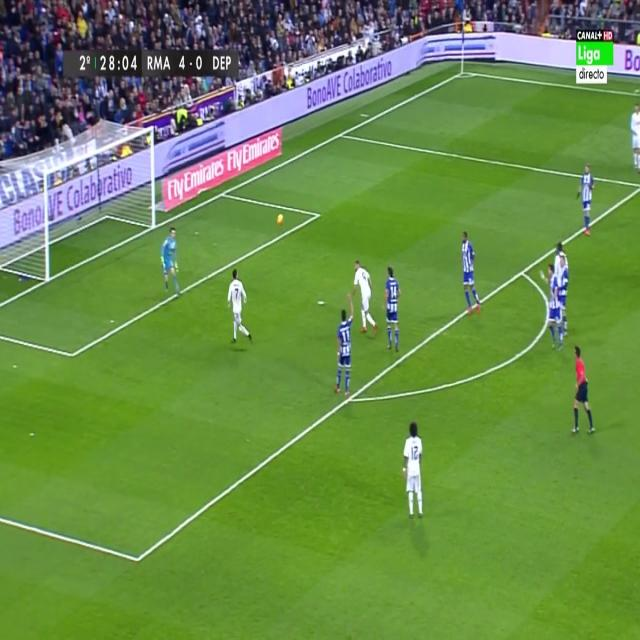Ball: (276, 208, 286, 228)
Goalkeeper: (158, 224, 182, 296)
Player: (399, 420, 429, 524), (225, 265, 255, 348), (333, 289, 355, 400), (352, 257, 380, 339), (461, 227, 483, 314), (384, 263, 402, 353), (576, 164, 596, 238), (542, 265, 559, 352), (558, 253, 573, 342), (628, 99, 640, 177)
Referee: (570, 343, 598, 439)
